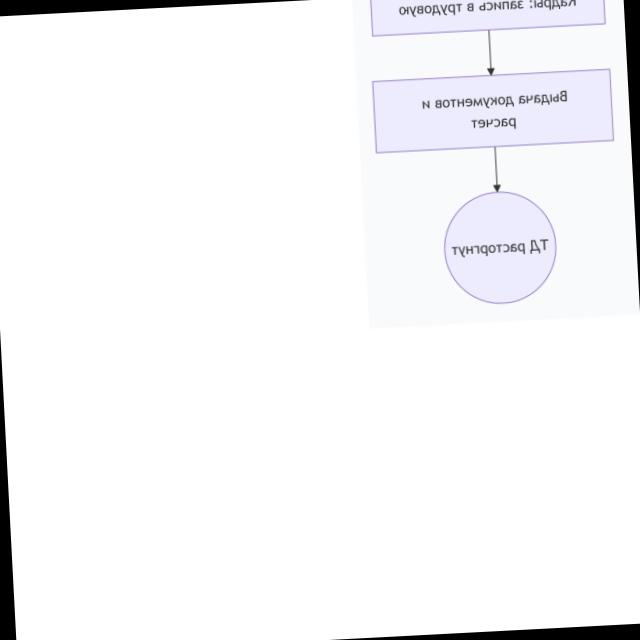arrow: (489, 146, 505, 193), (482, 30, 498, 75)
circle: (444, 192, 555, 304)
rectangle: (372, 70, 615, 152)
